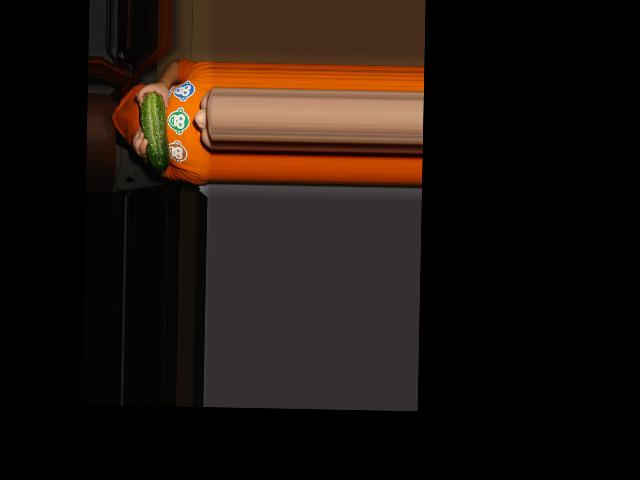cucumber: (139, 91, 170, 171)
